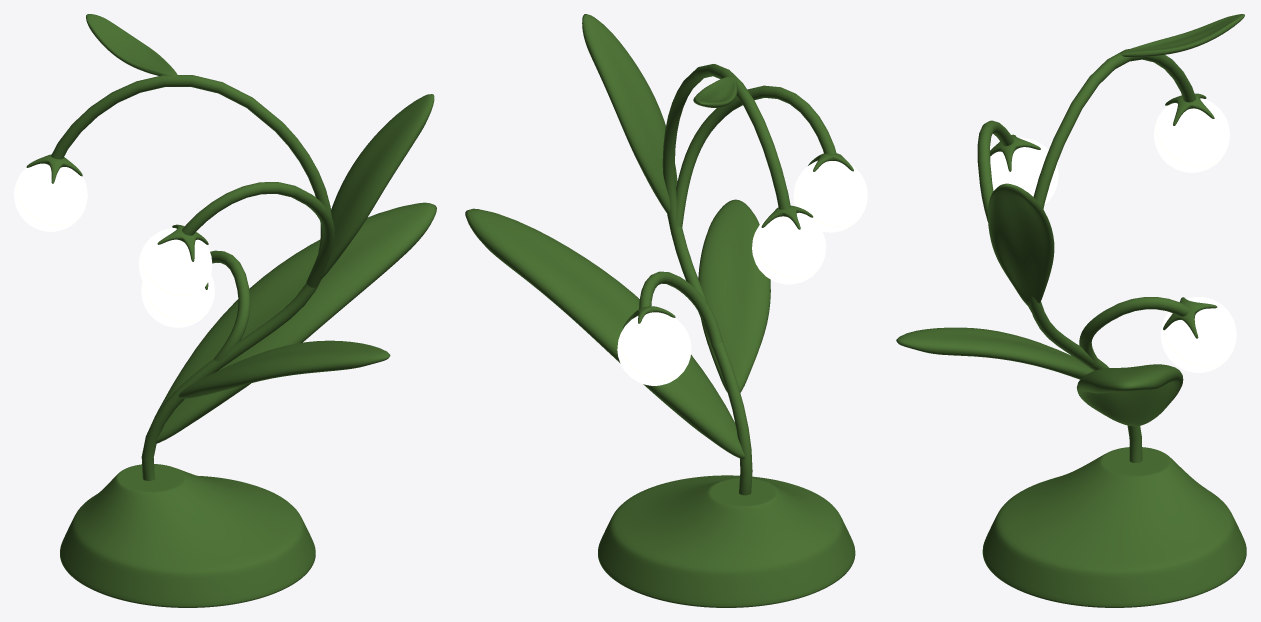
Rendered from LAMP 2.gltf.
3 views of the same model, side by side, from view 1: azimuth 30°, elevation 25°; view 2: azimuth 150°, elevation 25°; view 3: azimuth 270°, elevation 25° (orthographic). The views are drawn at different scales.
Visible parts, largest first — view 1: Base, Leave0, strand1, Leave2, Leave1, bulb1, bulb2, strand3, Leave3, bulb3, strand2; view 2: Base, Leave0, Leave1, strand1, Leave2, bulb3, bulb1, bulb2, strand3, strand2, Leave3; view 3: Base, Leave2, strand1, Leave0, Leave1, bulb1, bulb3, bulb2, Leave3, strand2, strand3, flowerb3 (+2 smaller).
Part boxes in pixels (<box>): Base: <box>60,464,315,607</box>; Leave0: <box>154,202,436,443</box>; strand1: <box>51,75,331,480</box>; Leave2: <box>320,94,434,279</box>; Leave1: <box>178,340,390,399</box>; bulb1: <box>14,163,87,231</box>; bulb2: <box>138,228,212,301</box>; strand3: <box>182,182,334,287</box>; Leave3: <box>86,14,177,76</box>; bulb3: <box>141,275,214,327</box>; strand2: <box>210,250,250,361</box>; Base: <box>598,475,855,607</box>; Leave0: <box>465,208,744,458</box>; Leave1: <box>698,199,770,392</box>; strand1: <box>662,64,790,495</box>; Leave2: <box>582,14,677,213</box>; bulb3: <box>617,312,691,385</box>; bulb1: <box>752,212,825,284</box>; bulb2: <box>793,160,867,232</box>; strand3: <box>674,85,836,226</box>; strand2: <box>639,271,722,348</box>; Leave3: <box>693,76,737,107</box>; Base: <box>982,447,1246,607</box>; Leave2: <box>987,183,1054,306</box>; strand1: <box>1029,49,1195,462</box>; Leave0: <box>1076,364,1183,426</box>; Leave1: <box>896,327,1093,379</box>; bulb1: <box>1154,98,1229,172</box>; bulb3: <box>1160,296,1236,372</box>; bulb2: <box>990,137,1058,204</box>; Leave3: <box>1120,14,1244,57</box>; strand2: <box>1079,297,1189,367</box>; strand3: <box>977,120,1031,312</box>; flowerb3: <box>1163,297,1217,338</box>.
Size of the model in its own units: 0.2564 by 0.321 by 0.1962.
